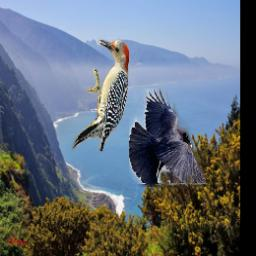Crow: (128, 88, 210, 187)
Woodpecker: (71, 34, 138, 151)
